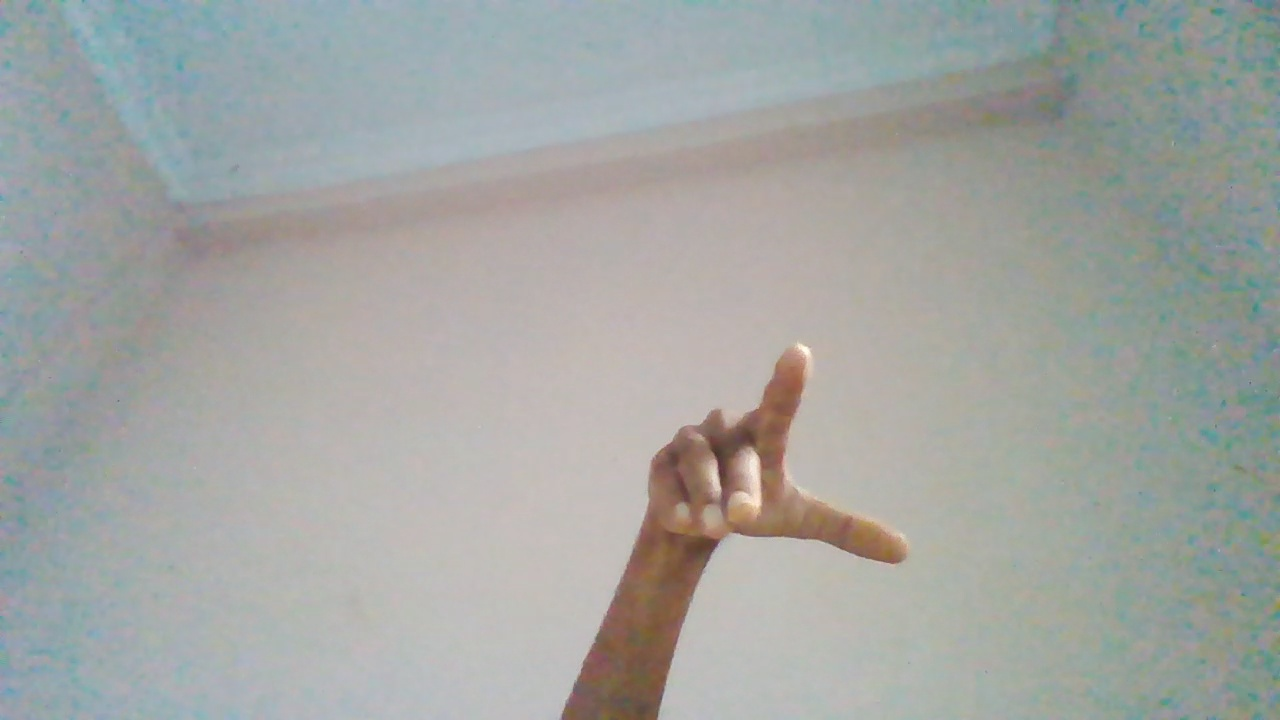ke: (643, 347, 933, 711)
